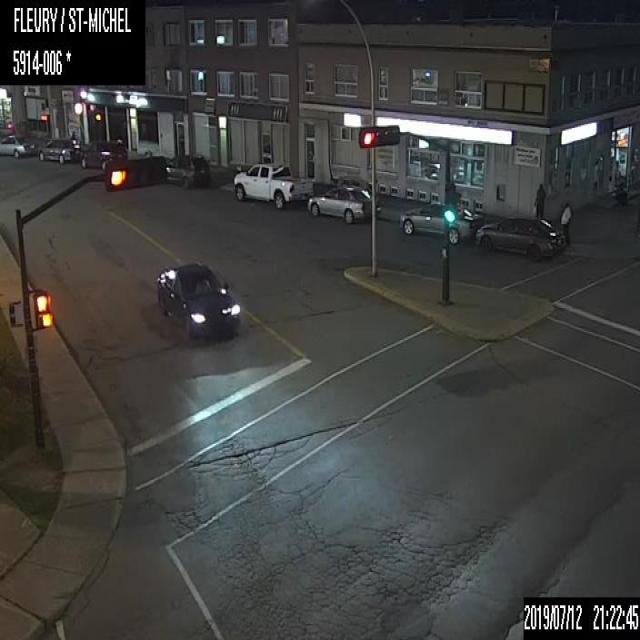pedestrian: (559, 201, 570, 247), (533, 181, 545, 215)
vehicle: (155, 260, 240, 336), (476, 213, 566, 260), (232, 161, 314, 208), (397, 200, 484, 244), (306, 185, 370, 222), (165, 152, 210, 189), (80, 140, 126, 170), (38, 138, 80, 163), (0, 132, 36, 156)
